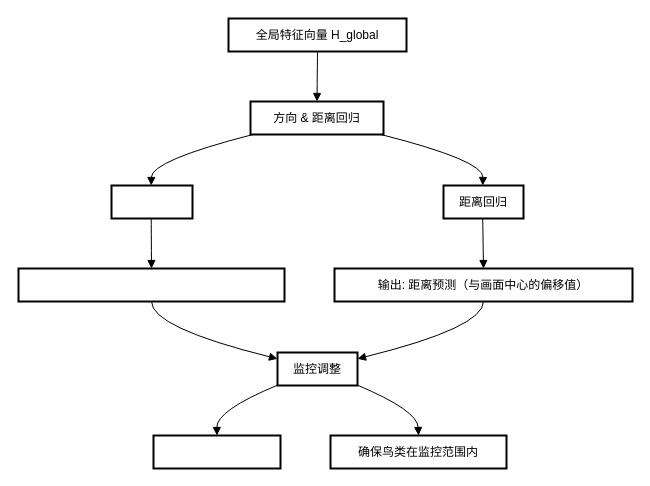
This 650x486 diagram has some shape labels left out. Each missing label, with the centre of its shape:
方向分类: point 151,201
调整摄像头方向: point 216,451
输出: 方向预测（上、下、左、右）: point 151,284
